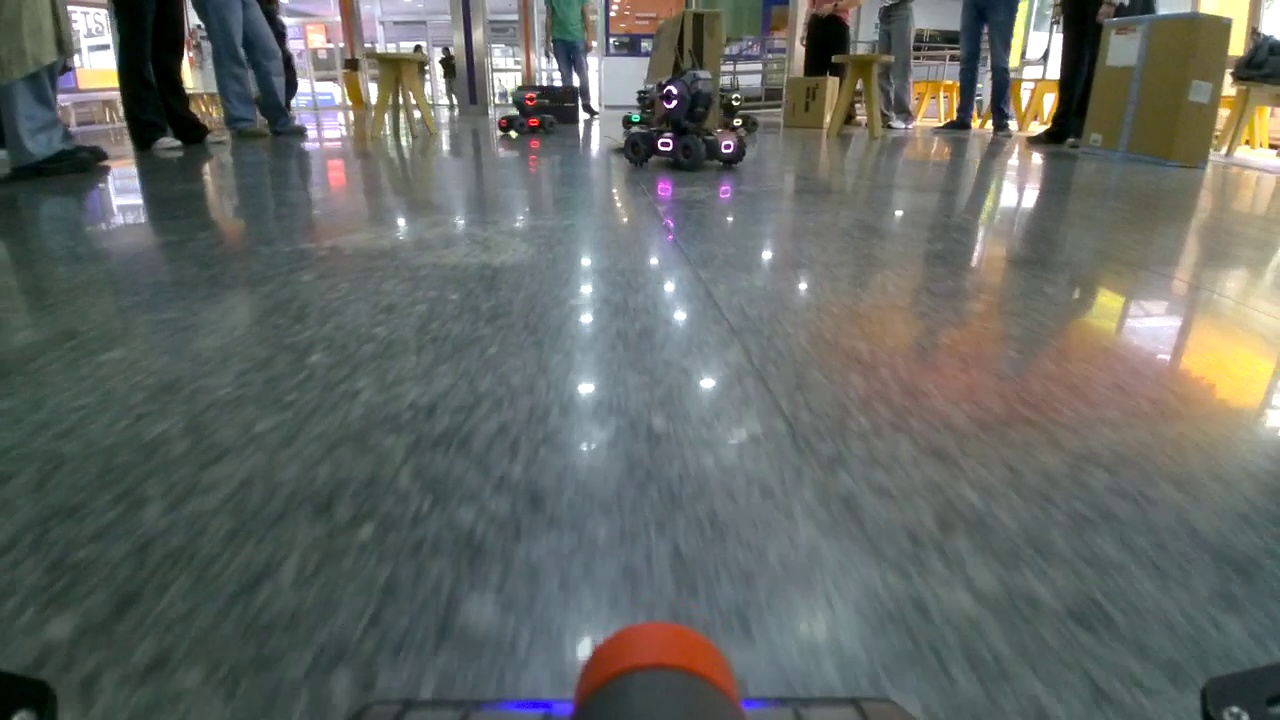robot: (627, 72, 747, 164)
